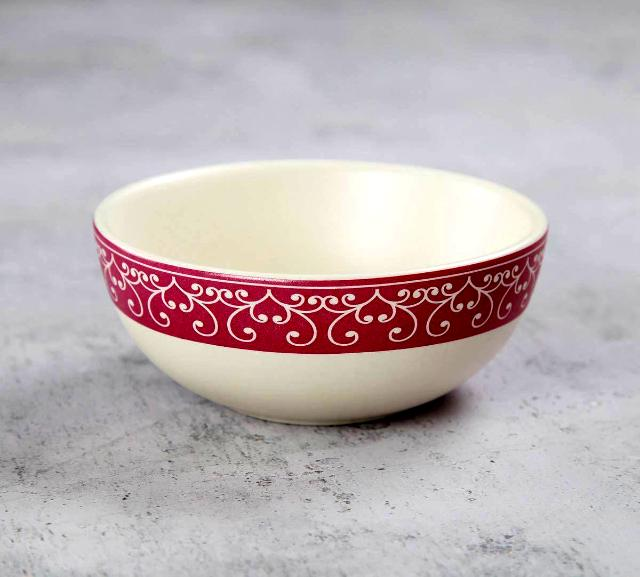Bowl: (95, 161, 547, 424)
